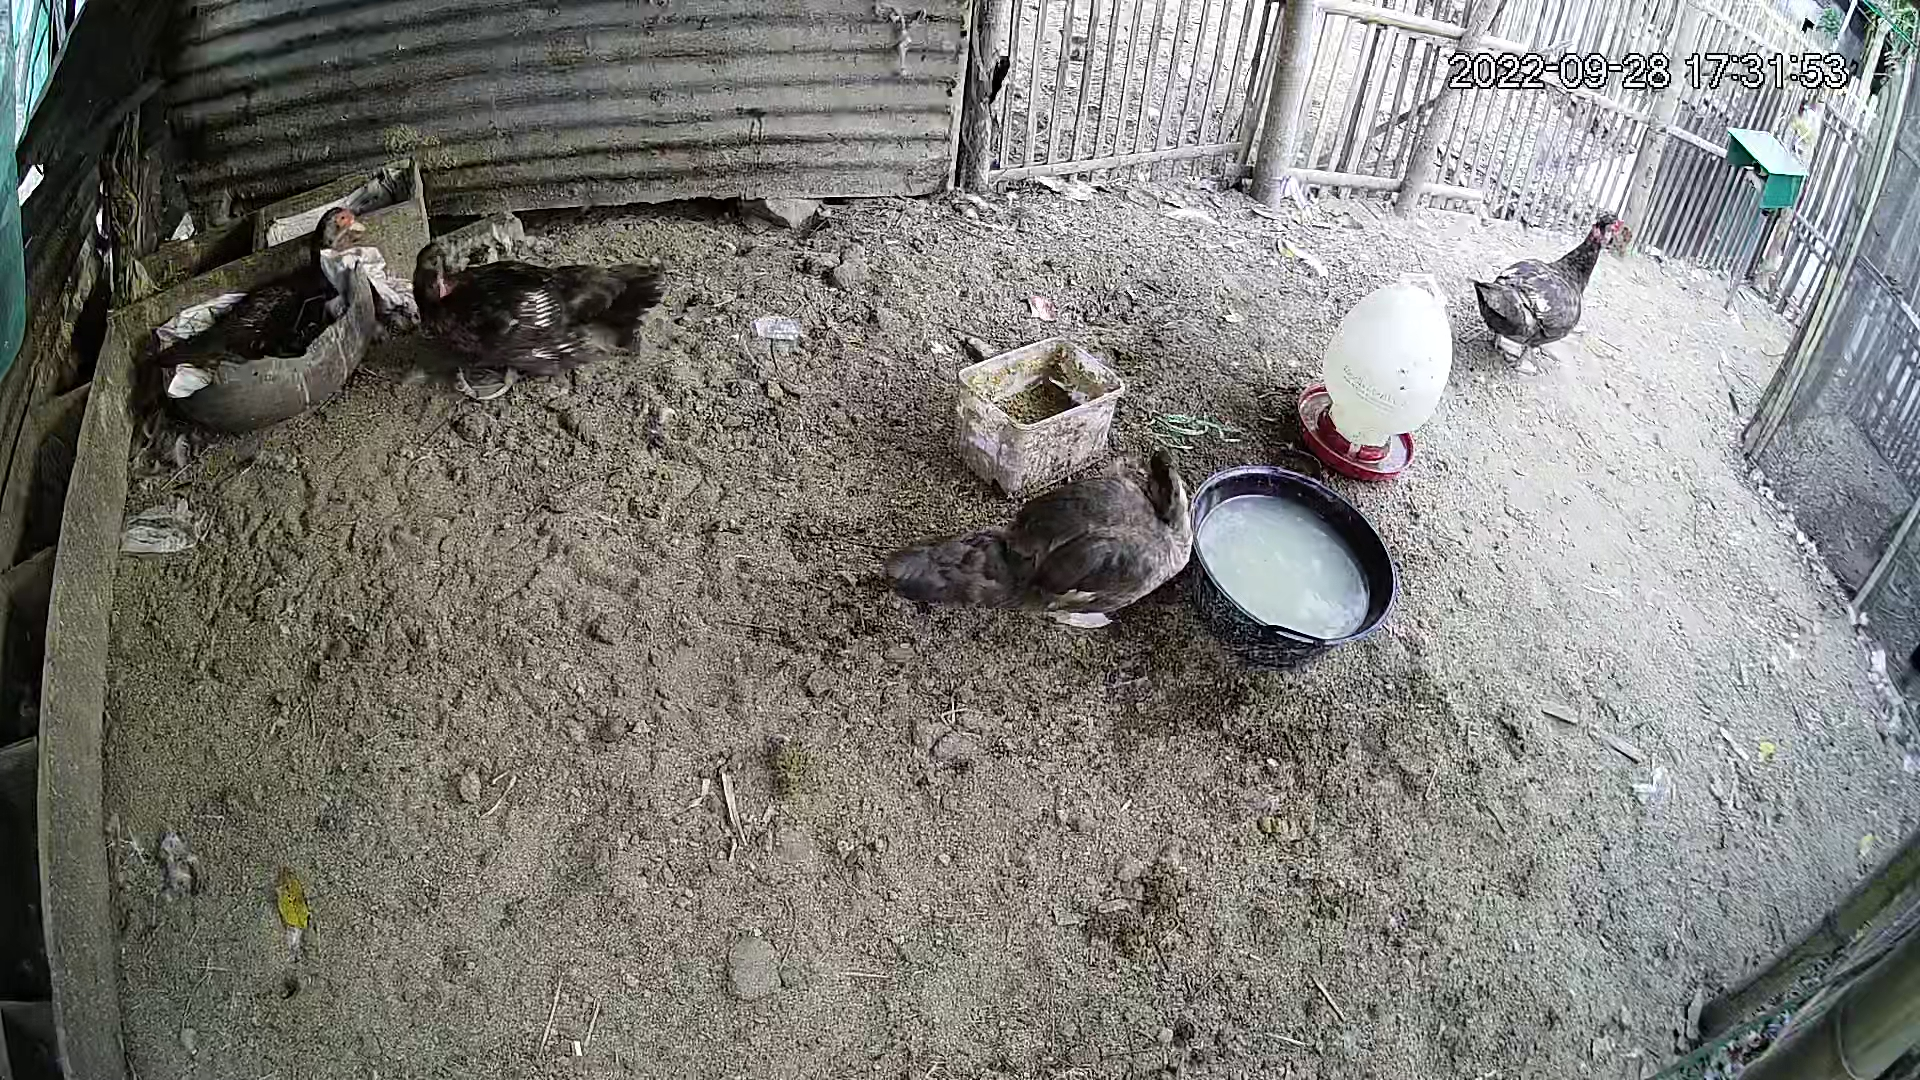Mengeram: (92, 182, 382, 439)
